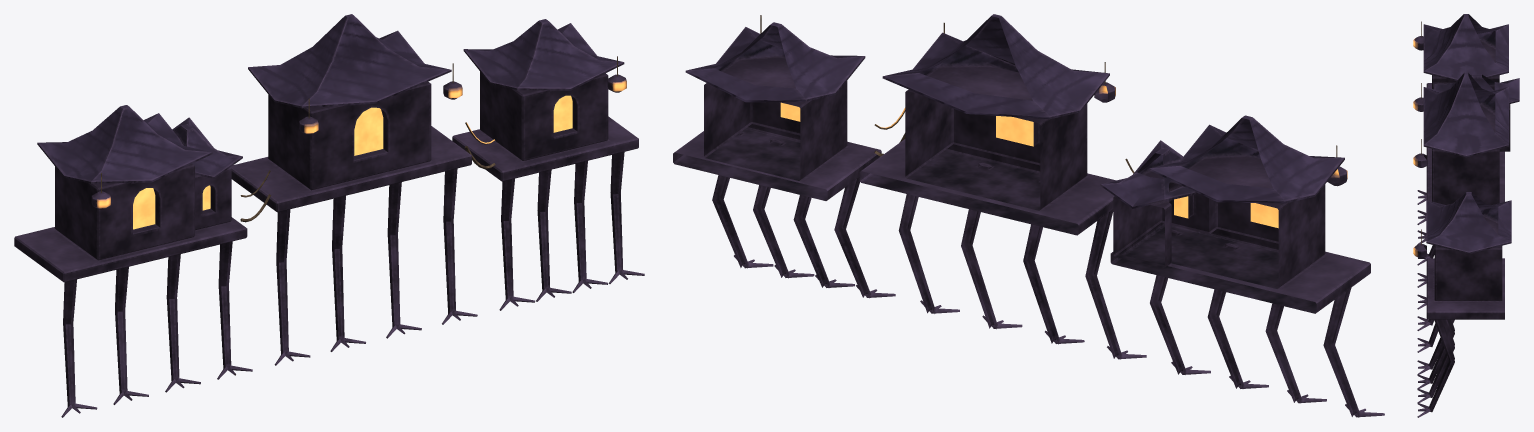
Rendered from StiltVillage_BG_Near.fbx.
3 renders of one model, left to right at view 1: azimuth 30°, elevation 25°; view 2: azimuth 150°, elevation 25°; view 3: azimuth 270°, elevation 25°, orthographic. The views are drawn at different scales.
Parts seen in each view (by area): view 1: StiltVillage_BG_Near; view 2: StiltVillage_BG_Near; view 3: StiltVillage_BG_Near.
Boxes of the visible parts, x1,y1,x2,y2 form: StiltVillage_BG_Near: (14, 14, 644, 417); StiltVillage_BG_Near: (673, 14, 1384, 417); StiltVillage_BG_Near: (1413, 14, 1519, 417).
Bounding box in the file's own units: 20.24 × 10.04 × 4.01.
